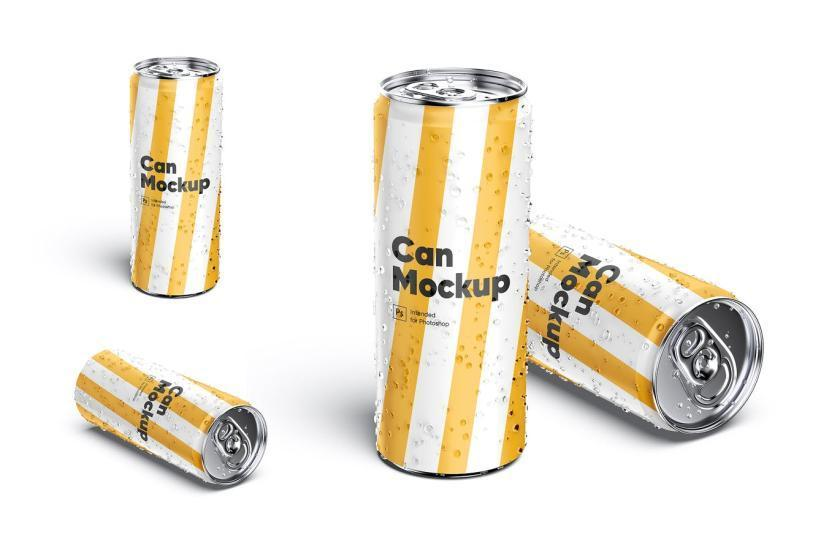metal: (374, 69, 530, 476), (525, 226, 762, 433), (75, 350, 266, 487), (130, 57, 221, 296)
